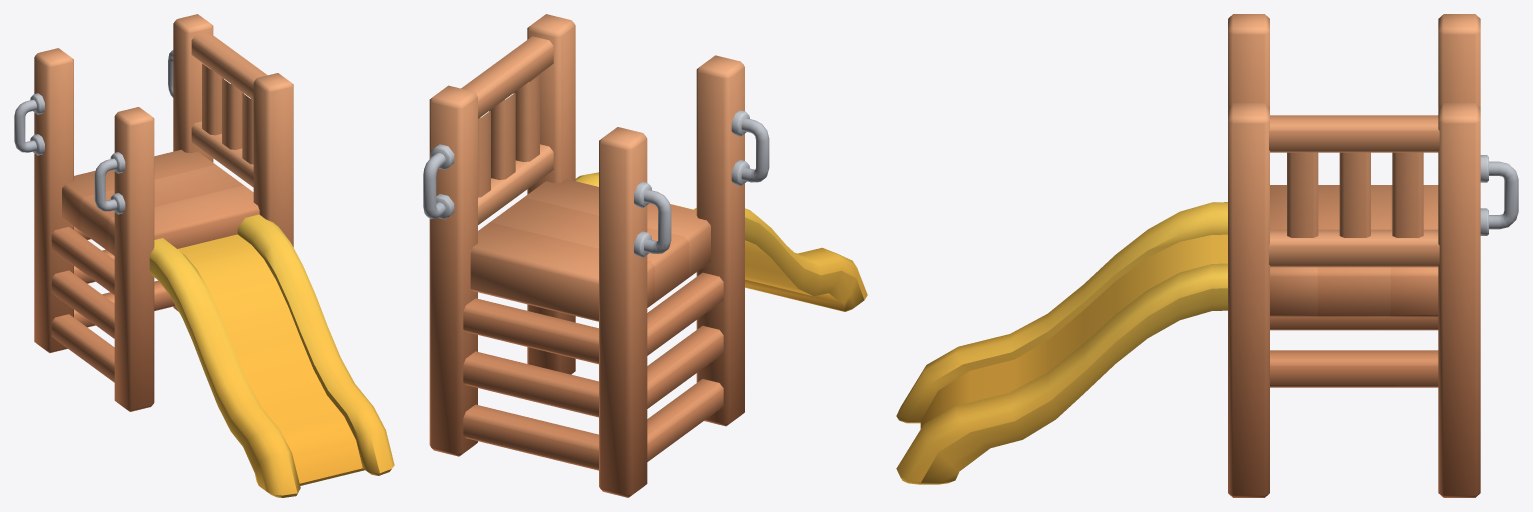
The model's file is slide_A.glb.
3 views of the same model, side by side, from view 1: azimuth 30°, elevation 25°; view 2: azimuth 150°, elevation 25°; view 3: azimuth 270°, elevation 25° (orthographic). The views are drawn at different scales.
Parts seen in each view (by area): view 1: slide_A; view 2: slide_A; view 3: slide_A.
Boxes of the visible parts, left/top/right/bottom form: slide_A: left=14, top=14, right=394, bottom=497; slide_A: left=423, top=14, right=867, bottom=497; slide_A: left=896, top=14, right=1518, bottom=497.
Size of the model in its own units: 2.76 by 4 by 5.91.
Materials: 1 (1 with a texture image).
